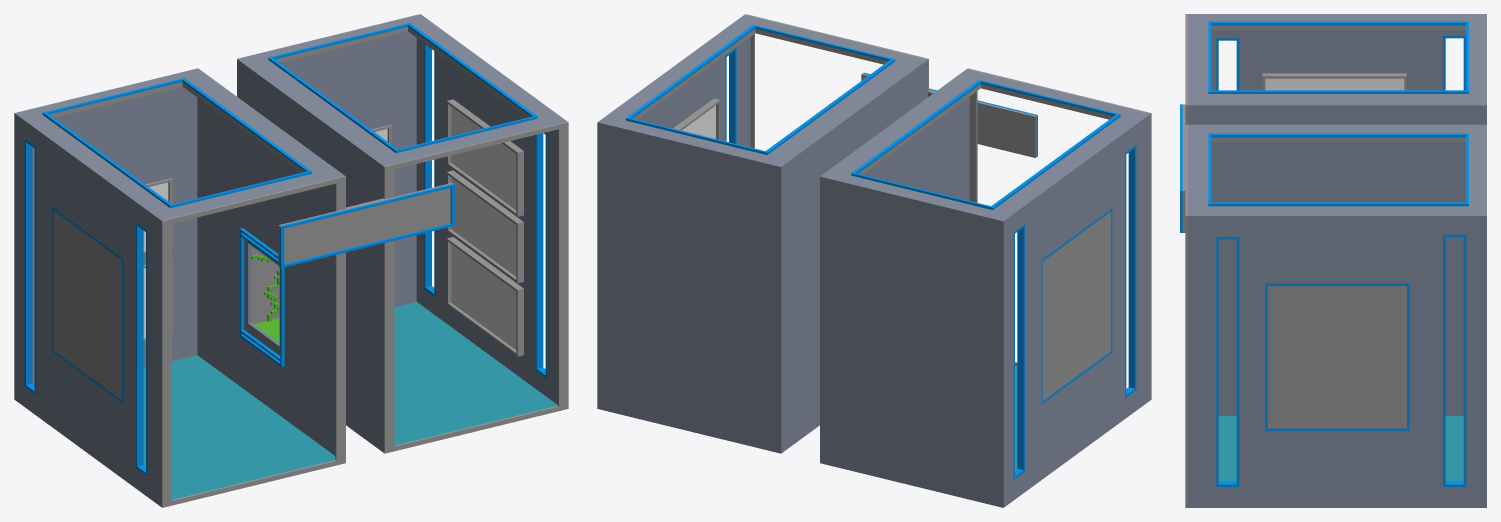
Rendered from pearl_twinboxbooth.glb.
3 views of the same model, side by side, from view 1: azimuth 30°, elevation 25°; view 2: azimuth 150°, elevation 25°; view 3: azimuth 270°, elevation 25° (orthographic).
Visible parts, largest first — view 1: Untitled; view 2: Untitled; view 3: Untitled.
Boxes of the visible parts, x1,y1,x2,y2 form: Untitled: [14, 14, 568, 507]; Untitled: [597, 14, 1151, 507]; Untitled: [1180, 14, 1486, 507].
Size of the model in its own units: 18.54 by 12.6 by 11.9.
1 material, 1 textured.
